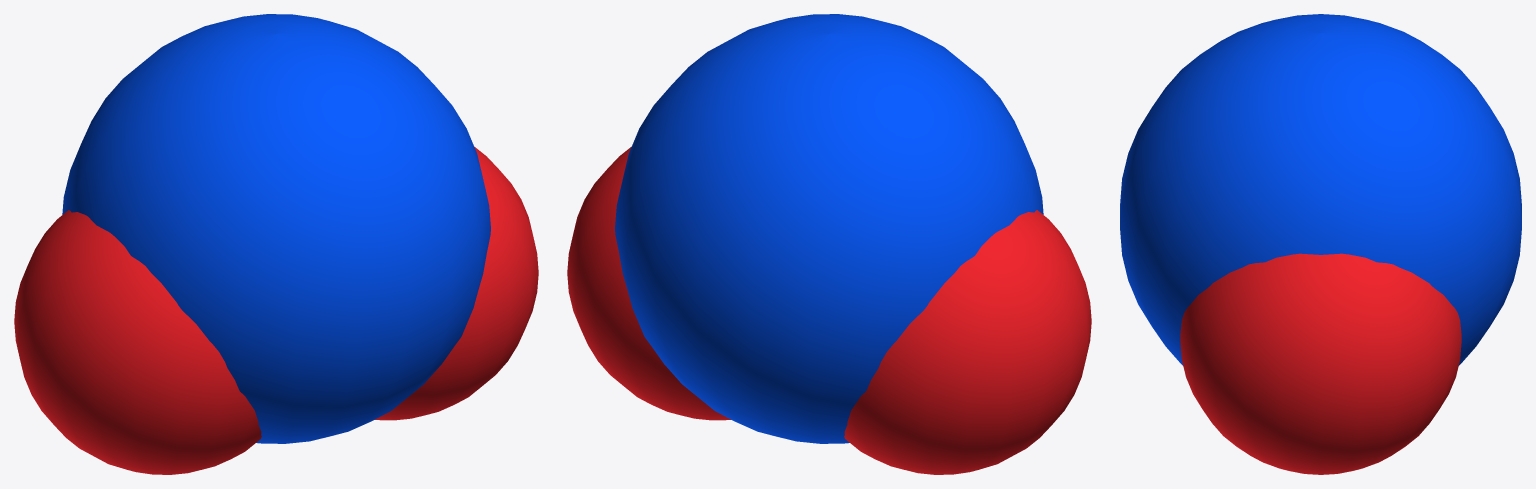
3 renders of one model, left to right at view 1: azimuth 30°, elevation 25°; view 2: azimuth 150°, elevation 25°; view 3: azimuth 270°, elevation 25°, orthographic. The views are drawn at different scales.
Parts seen in each view (by area): view 1: Сферы_Node (×3); view 2: Сферы_Node (×3); view 3: Сферы_Node (×2).
Part boxes in pixels (x1=…): Сферы_Node (×3): x1=14, y1=14, x2=538, y2=474; Сферы_Node (×3): x1=567, y1=14, x2=1091, y2=474; Сферы_Node (×2): x1=1120, y1=14, x2=1521, y2=474.
Size of the model in its own units: 2.05 by 1.61 by 1.56.
2 materials, 2 textured.
